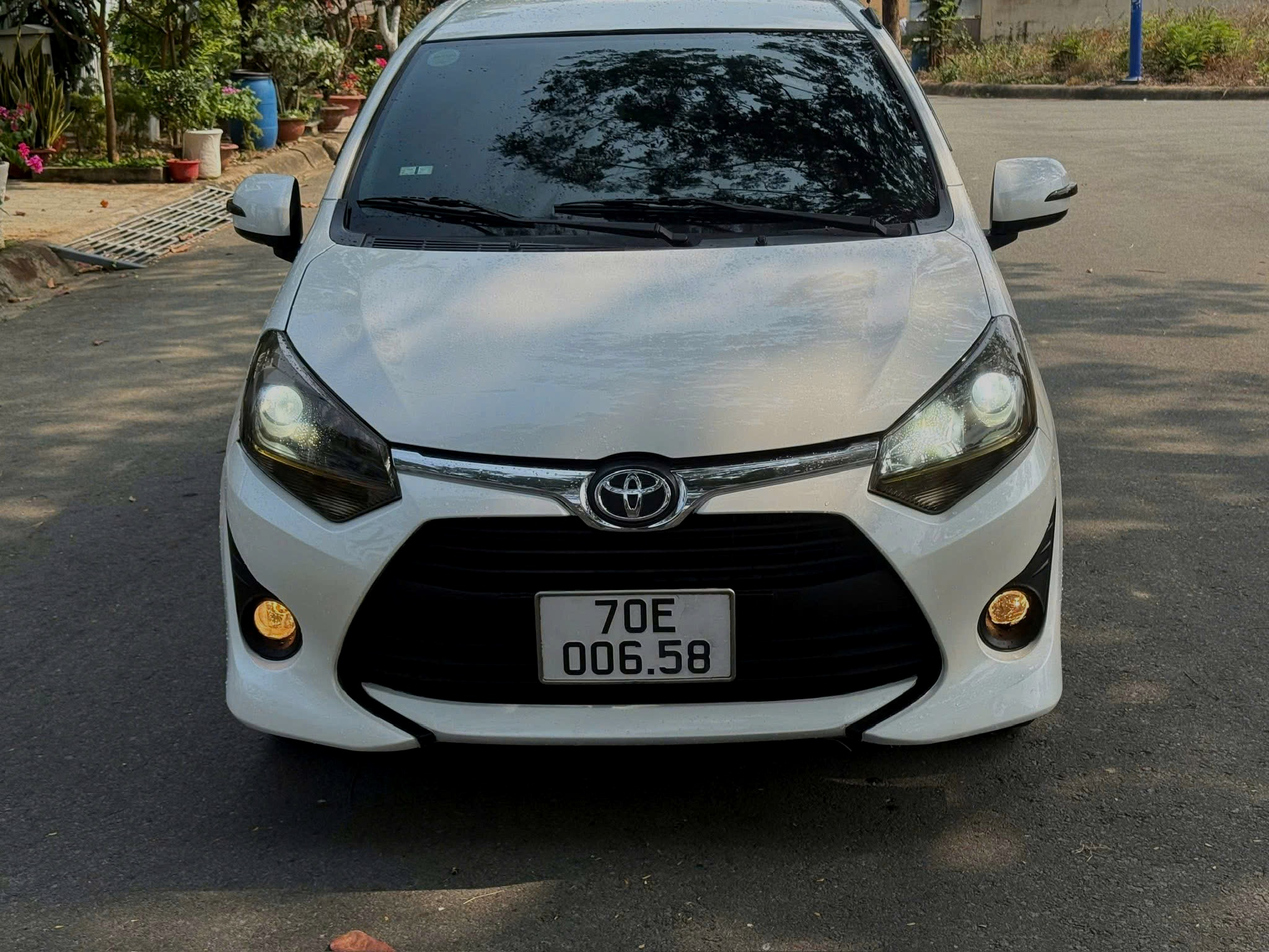Bien-so: (549, 578, 756, 682)
